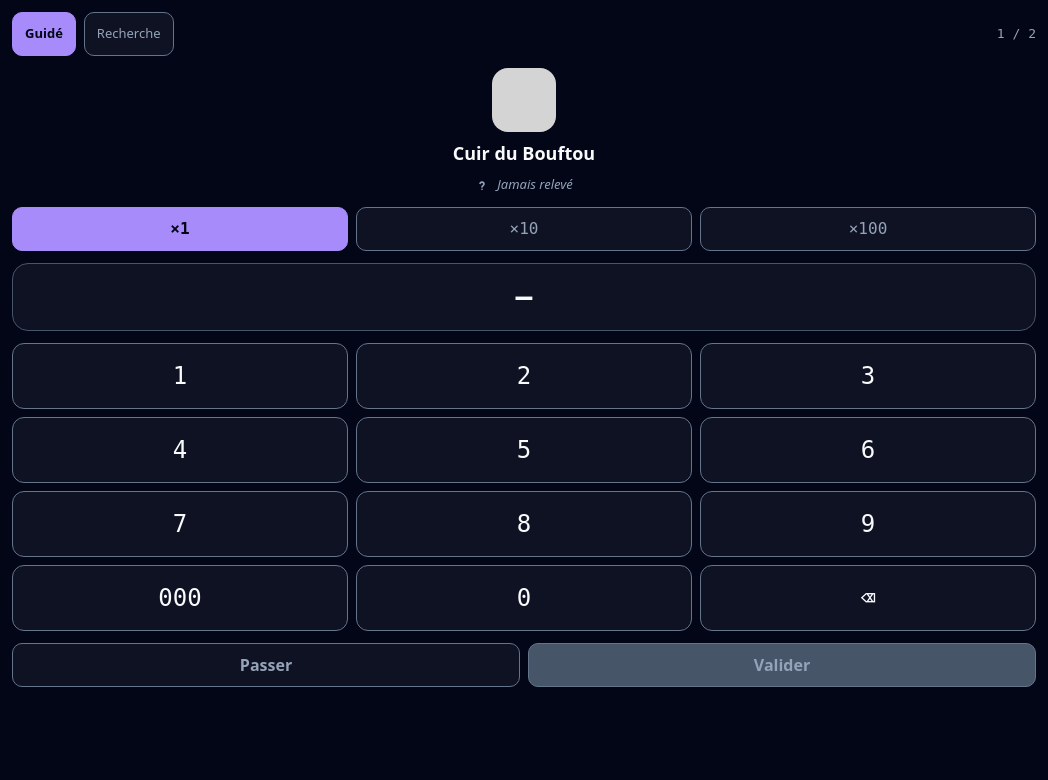
PricesScreen — pavé numérique et validation › enregistre le prix saisi et avance dans la file
This screenshot has width=1048, height=780.
Check: the text "1 / 2" is shown, box top-left (997, 24), bottom-right (1036, 44)
Click the button "4" at (180, 450), box top-left (12, 416), bottom-right (348, 482)
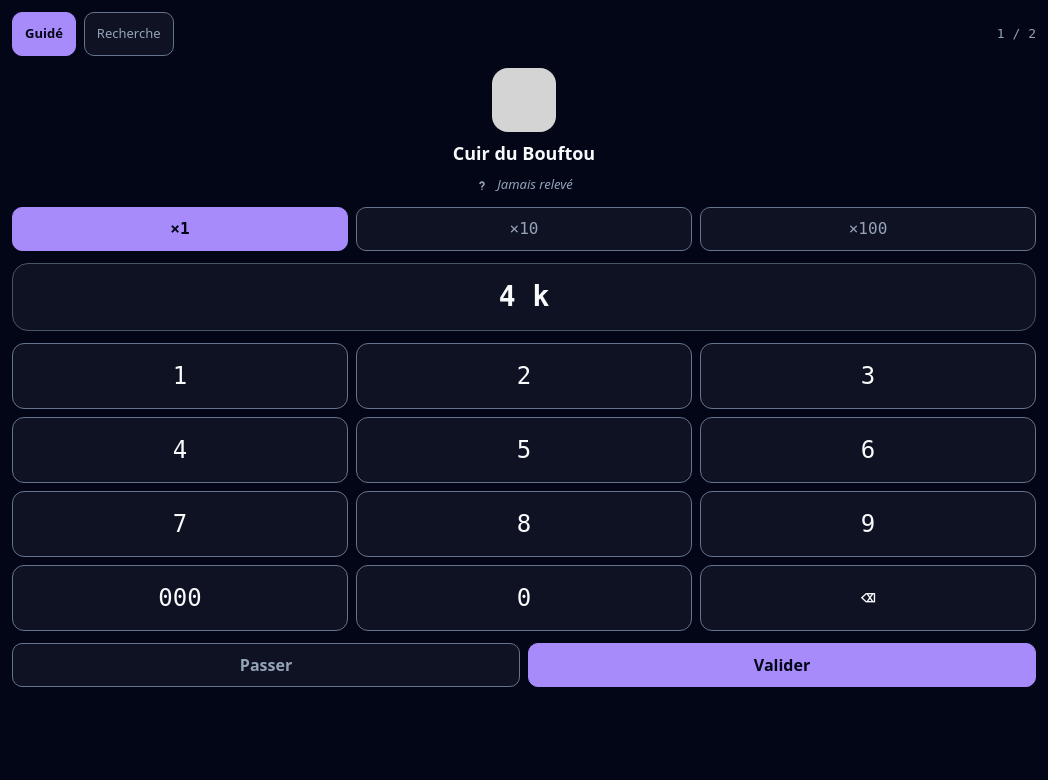
Click the button "5" at (524, 450), box top-left (356, 416), bottom-right (692, 482)
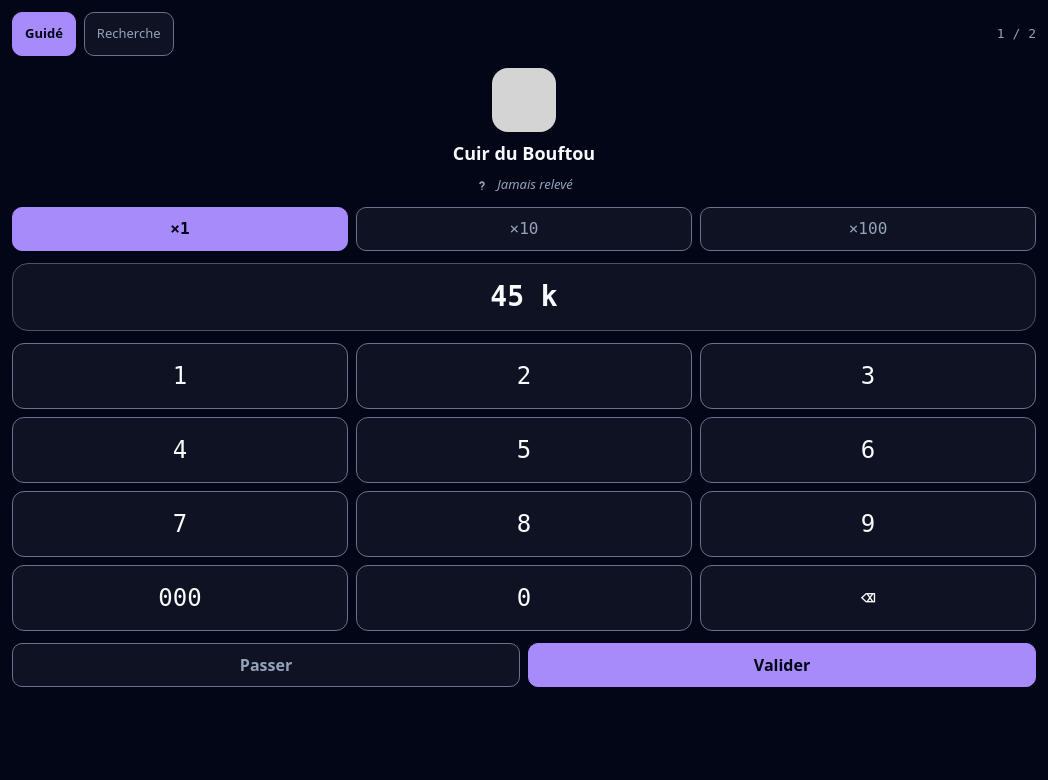
Click the button "000" at (180, 598), box top-left (12, 564), bottom-right (348, 630)
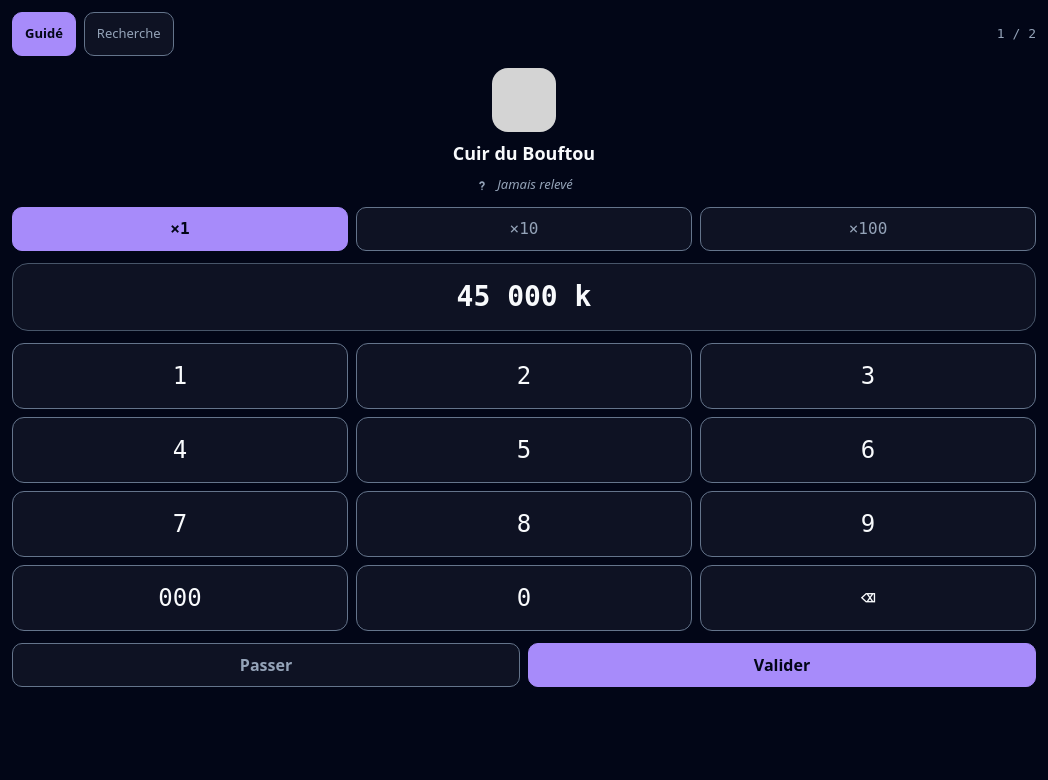
Check: the text "45 000 k" is shown, box top-left (12, 262), bottom-right (1036, 330)
Click the button "Valider" at (782, 664), box top-left (528, 642), bottom-right (1036, 686)
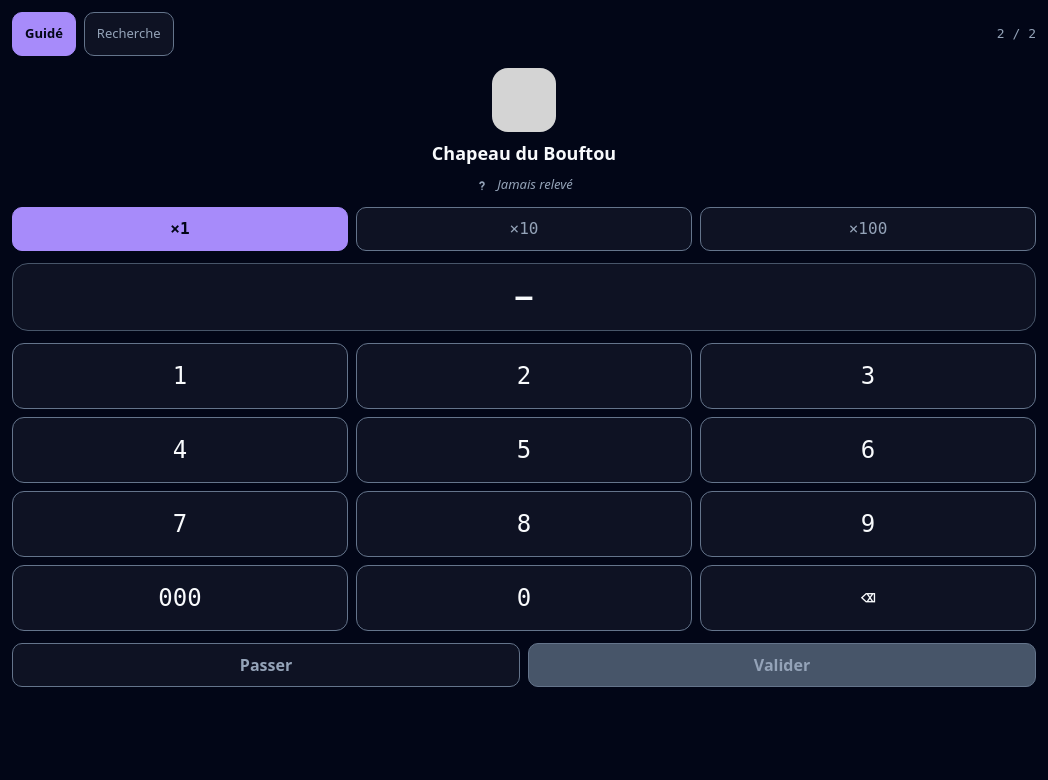
Check: the text "2 / 2" is shown, box top-left (997, 24), bottom-right (1036, 44)
Check: the heading "Cuir du Bouftou" no longer shows "Cuir du Bouftou"
